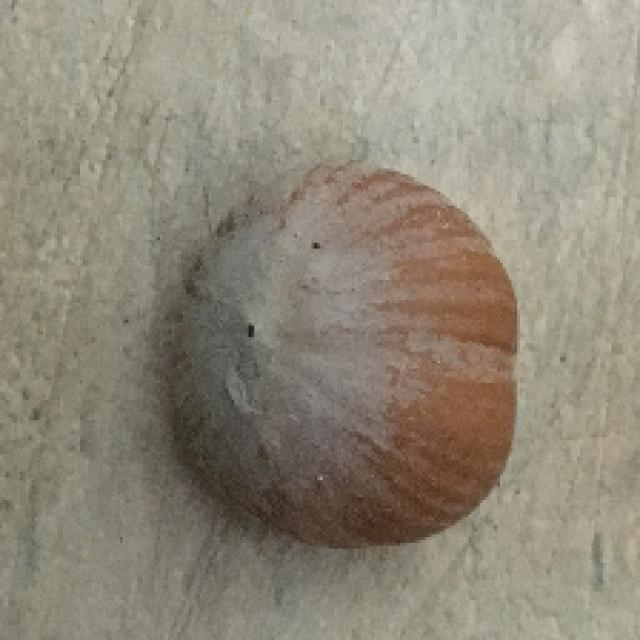QualityHazelnut: (161, 156, 528, 553)
